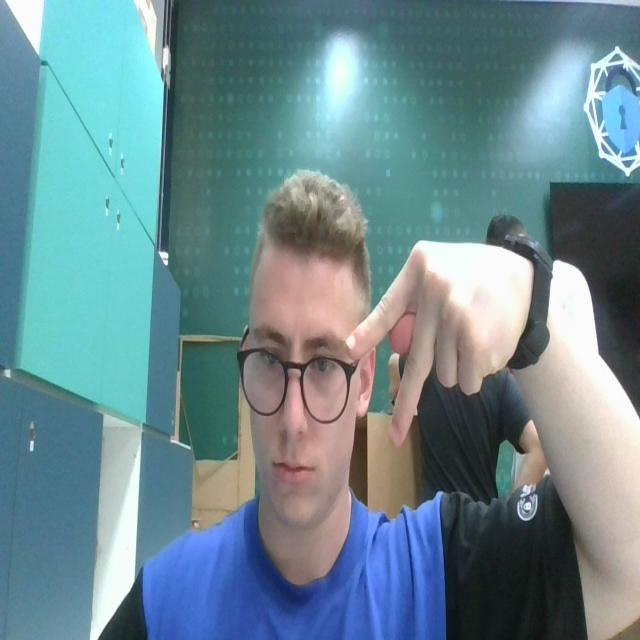P: (343, 230, 528, 453)
